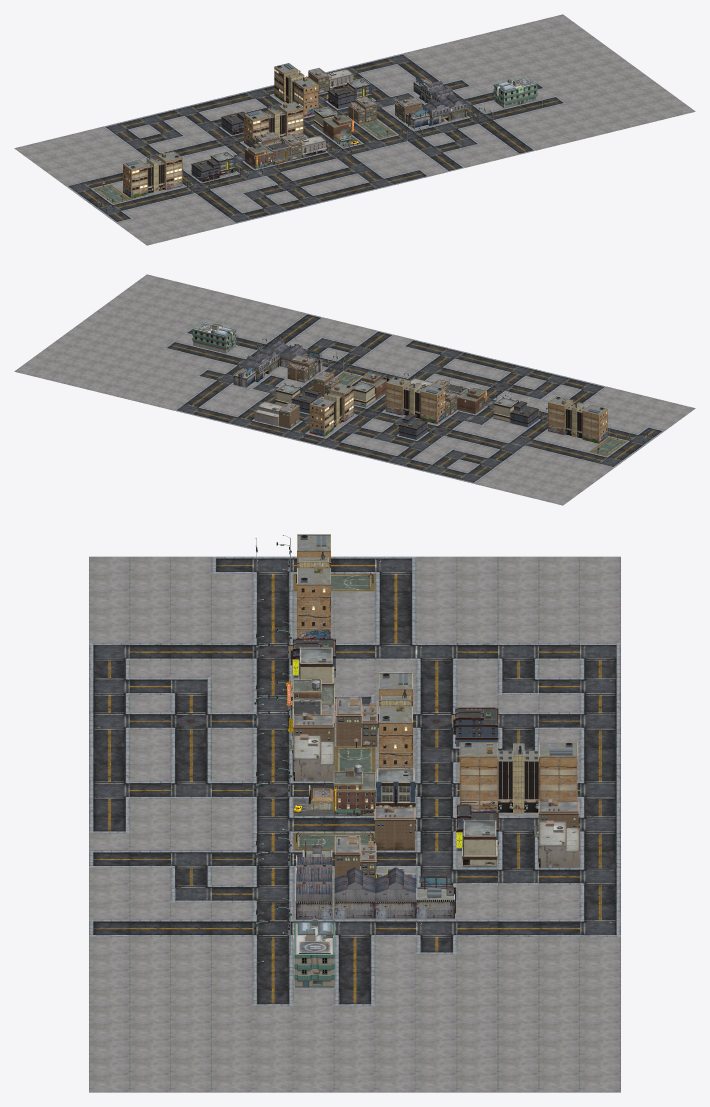
3 renders of one model, top to bottom at view 1: azimuth 30°, elevation 25°; view 2: azimuth 150°, elevation 25°; view 3: azimuth 270°, elevation 25°, orthographic. The views are drawn at different scales.
Parts seen in each view (by area): view 1: BD_ConcreteBlock1, pasted__pCube20 (×3), pasted__pCube27 (×3), Filler_Apartments2 (×3), LM_Clinic2, LM_Basketball10, LM_Basketball9; view 2: BD_ConcreteBlock1, pasted__pCube27 (×3), pasted__pCube20 (×3), Filler_Apartments2 (×3), LM_Clinic2, LM_Basketball9; view 3: BD_ConcreteBlock1, pasted__pCube20 (×3), LM_Clinic2, pasted__pCube27, pasted__pCube2 (×2), Filler_Apartments2, Filler_SalsT8_group8_pCube11, pasted__pCube3, pasted__pCube1, LM_Basketball11, pasted__pCube18, pasted__pCube26 (+4 smaller).
Boxes of the visible parts, x1,y1,x2,y2 form: BD_ConcreteBlock1: [14, 14, 695, 245]; pasted__pCube20 (×3): [157, 77, 318, 183]; pasted__pCube27 (×3): [123, 63, 298, 191]; Filler_Apartments2 (×3): [191, 86, 356, 182]; LM_Clinic2: [493, 76, 537, 107]; LM_Basketball10: [359, 117, 396, 138]; LM_Basketball9: [93, 182, 130, 203]; BD_ConcreteBlock1: [14, 274, 695, 505]; pasted__pCube27 (×3): [309, 385, 607, 436]; pasted__pCube20 (×3): [329, 376, 573, 428]; Filler_Apartments2 (×3): [291, 389, 539, 439]; LM_Clinic2: [192, 321, 236, 353]; LM_Basketball9: [589, 434, 626, 456]; BD_ConcreteBlock1: [89, 556, 620, 1092]; pasted__pCube20 (×3): [297, 568, 497, 800]; LM_Clinic2: [293, 918, 334, 987]; pasted__pCube27: [539, 742, 577, 800]; pasted__pCube2 (×2): [296, 893, 375, 919]; Filler_Apartments2: [451, 707, 498, 746]; Filler_SalsT8_group8_pCube11: [375, 821, 414, 850]; pasted__pCube3: [375, 893, 416, 918]; pasted__pCube1: [416, 887, 454, 918]; LM_Basketball11: [334, 738, 375, 772]; pasted__pCube18: [498, 750, 512, 812]; pasted__pCube26: [524, 750, 538, 812].
Size of the model in its own units: 55800 by 3186 by 23400.
22 materials, 18 textured.
